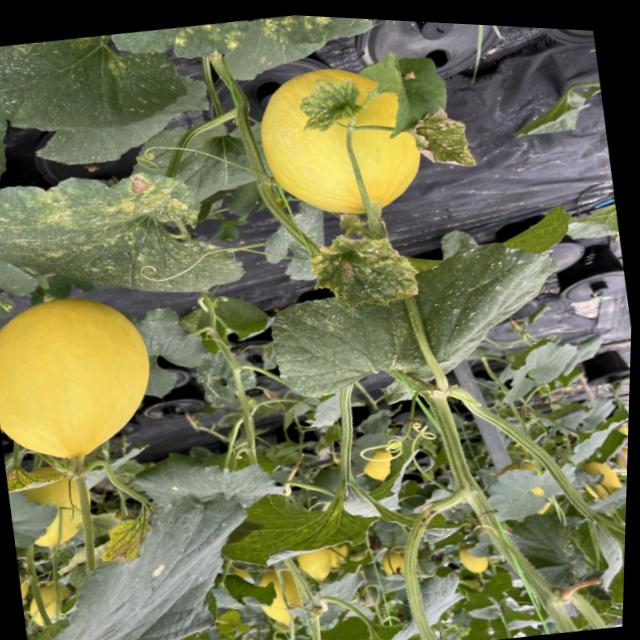CMV: (0, 144, 262, 330), (212, 477, 389, 585), (90, 512, 155, 569), (4, 458, 70, 507)
SLCV: (288, 216, 441, 332), (392, 99, 490, 183), (286, 69, 372, 138)
alternaria leaf blight: (7, 473, 278, 640)
downy mildew: (0, 17, 196, 149), (249, 13, 386, 58), (164, 16, 257, 71)
powdery mildew: (0, 45, 32, 200)
